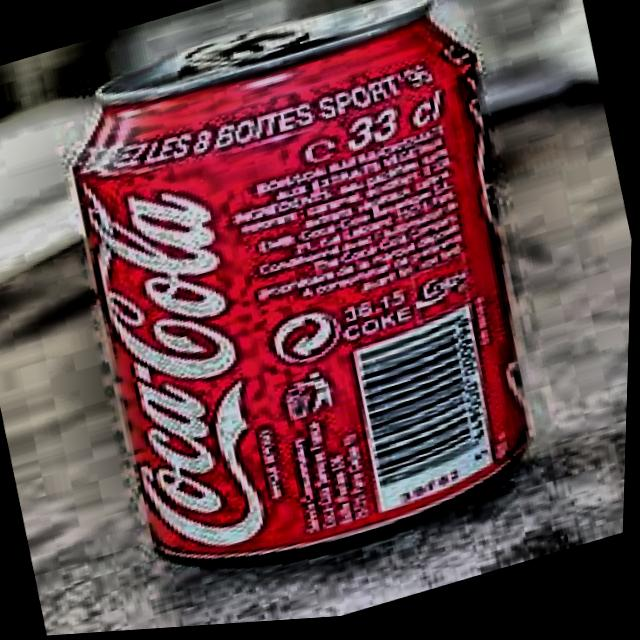Cans: (0, 0, 584, 618)
